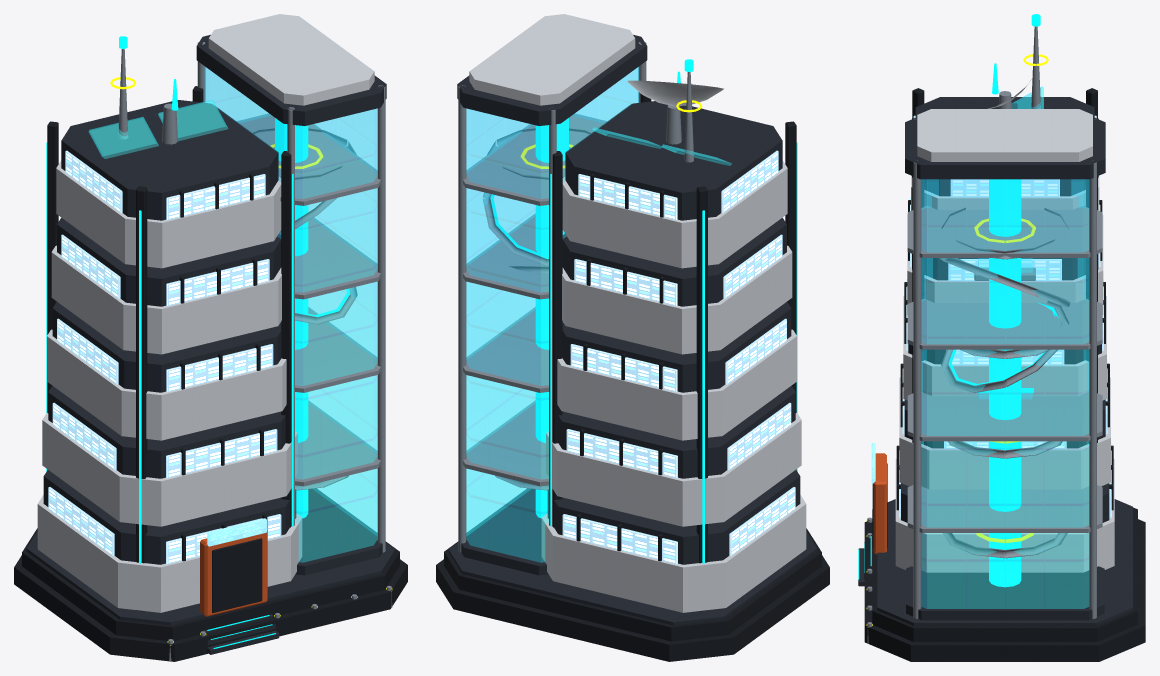
Rendered from bldg_15_r1_02.glb.
3 views of the same model, side by side, from view 1: azimuth 30°, elevation 25°; view 2: azimuth 150°, elevation 25°; view 3: azimuth 270°, elevation 25° (orthographic).
Visible parts, largest first — view 1: Bldg15_C02_aero_white, Bldg15_C02_carbon_slate, Bldg15_C02_glass_cyan, Bldg15_C02_gunmetal, Bldg15_C02_steel_machined, Bldg15_C02_window_lit, Bldg15_C02_led_cyan, Bldg15_C02_accent_orange, Bldg15_C02_marquee; view 2: Bldg15_C02_aero_white, Bldg15_C02_carbon_slate, Bldg15_C02_glass_cyan, Bldg15_C02_gunmetal, Bldg15_C02_steel_machined, Bldg15_C02_window_lit, Bldg15_C02_led_cyan; view 3: Bldg15_C02_glass_cyan, Bldg15_C02_steel_machined, Bldg15_C02_aero_white, Bldg15_C02_carbon_slate, Bldg15_C02_gunmetal, Bldg15_C02_led_cyan, Bldg15_C02_window_lit, Bldg15_C02_accent_orange, Bldg15_C02_led_amber.
Boxes of the visible parts, bbox=[...] form: Bldg15_C02_aero_white: bbox=[37, 14, 374, 612]; Bldg15_C02_carbon_slate: bbox=[26, 34, 395, 654]; Bldg15_C02_glass_cyan: bbox=[88, 67, 377, 562]; Bldg15_C02_gunmetal: bbox=[14, 86, 407, 661]; Bldg15_C02_steel_machined: bbox=[118, 42, 392, 661]; Bldg15_C02_window_lit: bbox=[48, 150, 281, 564]; Bldg15_C02_led_cyan: bbox=[46, 36, 349, 648]; Bldg15_C02_accent_orange: bbox=[200, 530, 267, 616]; Bldg15_C02_marquee: bbox=[207, 518, 266, 546]; Bldg15_C02_aero_white: bbox=[469, 14, 806, 612]; Bldg15_C02_carbon_slate: bbox=[448, 34, 817, 625]; Bldg15_C02_glass_cyan: bbox=[466, 67, 731, 562]; Bldg15_C02_gunmetal: bbox=[436, 94, 829, 661]; Bldg15_C02_steel_machined: bbox=[458, 42, 694, 552]; Bldg15_C02_window_lit: bbox=[562, 150, 795, 564]; Bldg15_C02_led_cyan: bbox=[490, 59, 797, 563]; Bldg15_C02_glass_cyan: bbox=[921, 86, 1089, 608]; Bldg15_C02_steel_machined: bbox=[867, 26, 1102, 643]; Bldg15_C02_aero_white: bbox=[895, 74, 1114, 572]; Bldg15_C02_carbon_slate: bbox=[858, 97, 1132, 625]; Bldg15_C02_gunmetal: bbox=[864, 88, 1145, 661]; Bldg15_C02_led_cyan: bbox=[858, 14, 1058, 587]; Bldg15_C02_window_lit: bbox=[899, 115, 1111, 517]; Bldg15_C02_accent_orange: bbox=[873, 453, 886, 554]; Bldg15_C02_led_amber: bbox=[866, 54, 1048, 627].
Bounding box in the file's own units: 12 × 21.22 × 10.23.
Materials: 10 (10 with a texture image).
